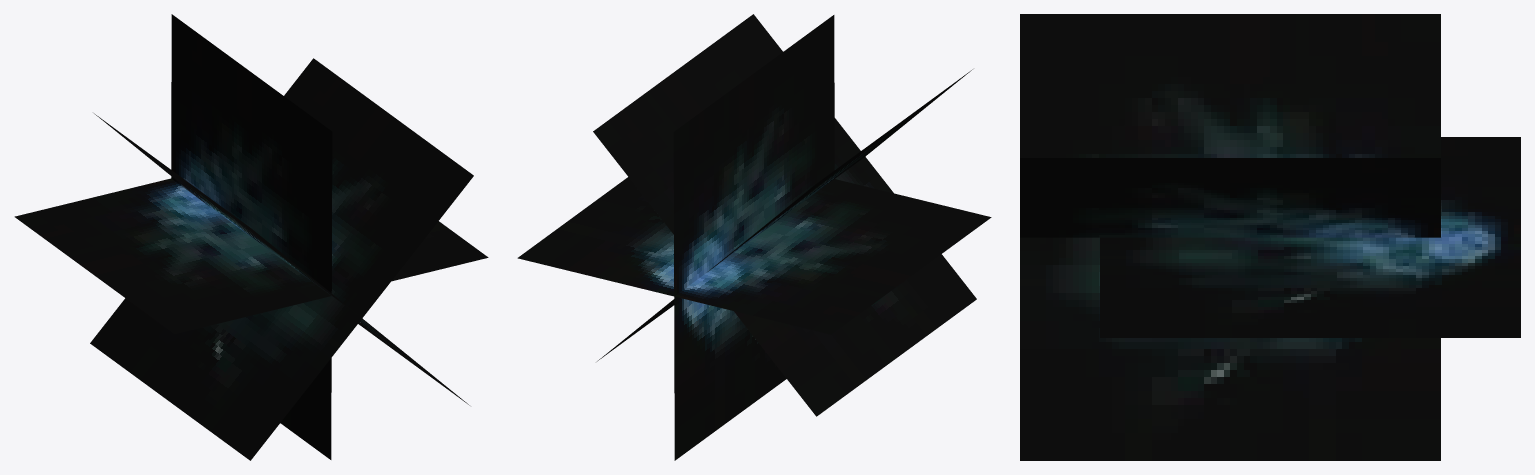
The model's file is mayastonebluefire.glb.
3 renders of one model, left to right at view 1: azimuth 30°, elevation 25°; view 2: azimuth 150°, elevation 25°; view 3: azimuth 270°, elevation 25°, orthographic. The views are drawn at different scales.
Parts seen in each view (by area): view 1: model_mayastonebluefire; view 2: model_mayastonebluefire; view 3: model_mayastonebluefire.
Part boxes in pixels (x1,y1,x2,y2): model_mayastonebluefire: (14,14,488,460); model_mayastonebluefire: (517,14,991,460); model_mayastonebluefire: (1020,14,1520,460).
Size of the model in its own units: 0.7055 by 0.7055 by 0.744.
Materials: 1 (1 with a texture image).
